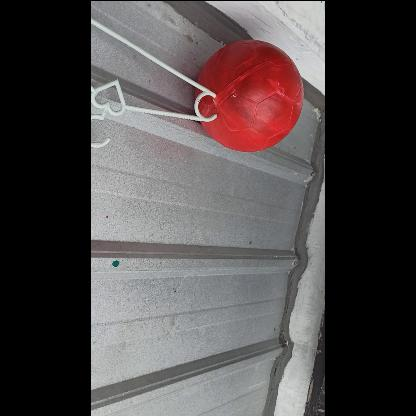red_ball: (195, 41, 306, 152)
